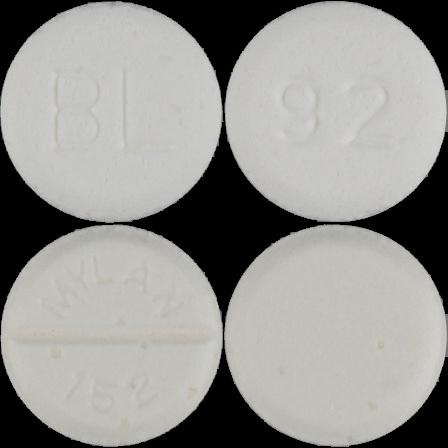55154-5526: (0, 0, 224, 224)
